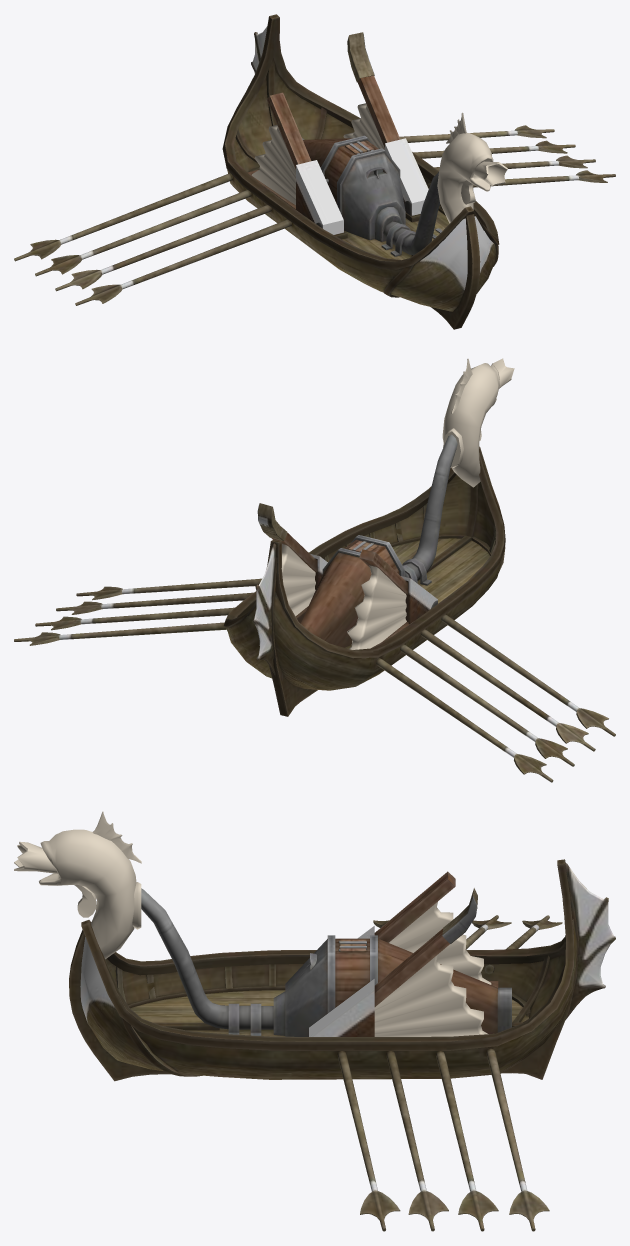
Rendered from 260-fireship.glb.
3 views of the same model, one above another, from view 1: azimuth 30°, elevation 25°; view 2: azimuth 150°, elevation 25°; view 3: azimuth 270°, elevation 25° (orthographic). The views are drawn at different scales.
Size of the model in its own units: 7.81 by 3.07 by 6.25.
4 materials, 2 textured.
